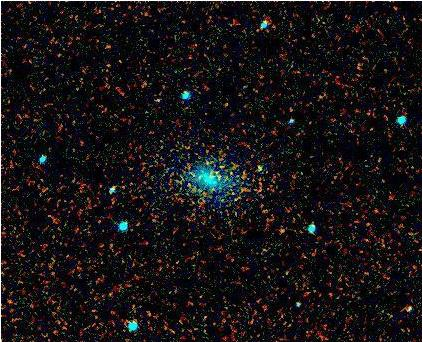star: (239, 147, 269, 177)
